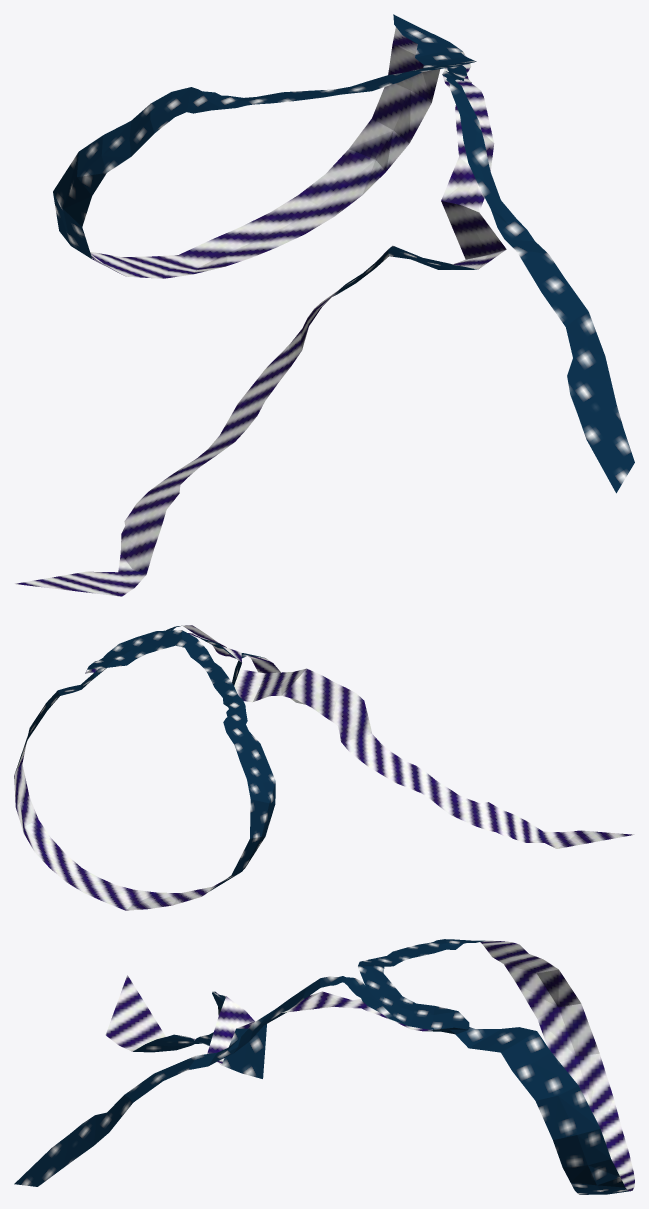
3 views of the same model, one above another, from view 1: azimuth 30°, elevation 25°; view 2: azimuth 150°, elevation 25°; view 3: azimuth 270°, elevation 25° (orthographic). The views are drawn at different scales.
Parts seen in each view (by area): view 1: Mesh2; view 2: Mesh2; view 3: Mesh2.
Boxes of the visible parts, box(x1,y1,x2,y2) form: Mesh2: box(15, 14, 634, 596); Mesh2: box(14, 625, 634, 910); Mesh2: box(14, 939, 634, 1194).
Bounding box in the file's own units: 1.35 × 0.5889 × 1.29.
Materials: 2 (2 with a texture image).
